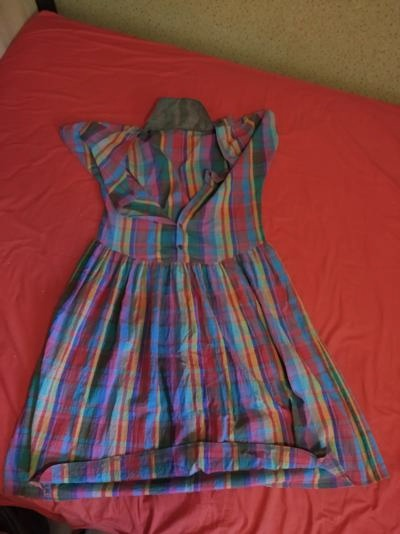Dress: (10, 76, 397, 510)
